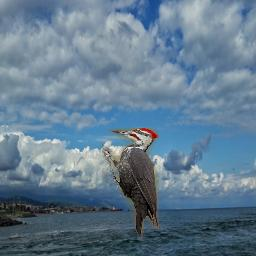Woodpecker: (102, 128, 159, 240)
